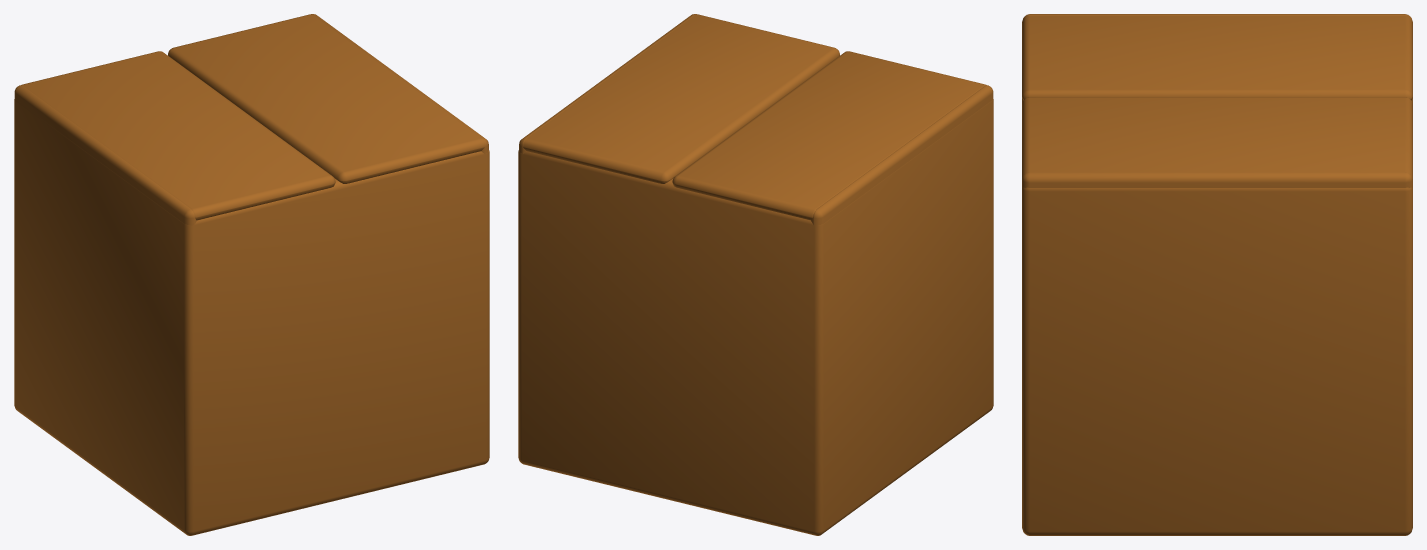
3 views of the same model, side by side, from view 1: azimuth 30°, elevation 25°; view 2: azimuth 150°, elevation 25°; view 3: azimuth 270°, elevation 25° (orthographic). The views are drawn at different scales.
Visible parts, largest first — view 1: Cube, Cube_2, Cube_1, Cube_4, Cube_3; view 2: Cube, Cube_2, Cube_1, Cube_4, Cube_3; view 3: Cube, Cube_1, Cube_2, Cube_3, Cube_4.
Boxes of the visible parts, x1,y1,x2,y2 form: Cube: (14, 99, 489, 535); Cube_2: (168, 14, 484, 183); Cube_1: (21, 51, 335, 220); Cube_4: (14, 85, 196, 225); Cube_3: (311, 14, 488, 154); Cube: (518, 99, 993, 535); Cube_2: (523, 14, 839, 183); Cube_1: (672, 51, 986, 220); Cube_4: (811, 85, 993, 225); Cube_3: (519, 14, 696, 154); Cube: (1022, 97, 1412, 535); Cube_1: (1022, 15, 1412, 100); Cube_2: (1022, 97, 1412, 179); Cube_3: (1022, 172, 1412, 188); Cube_4: (1022, 14, 1412, 22).
Size of the model in its own units: 50 by 51.17 by 50.
